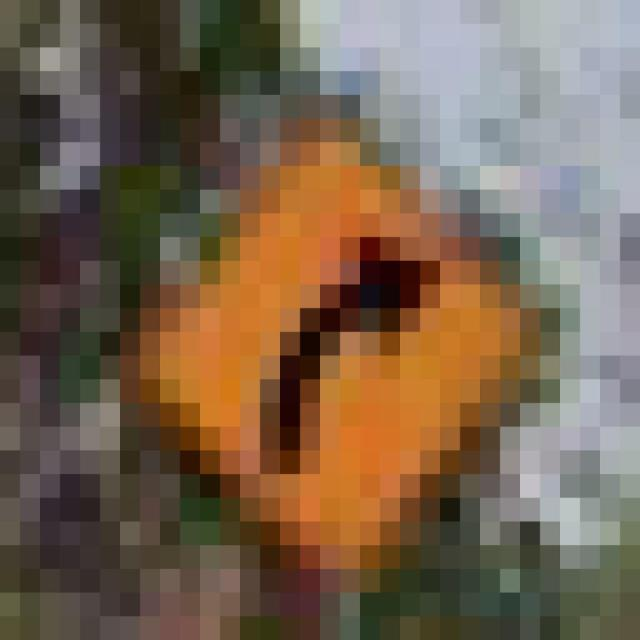Tikungan Ke Kanan: (60, 48, 540, 569)
